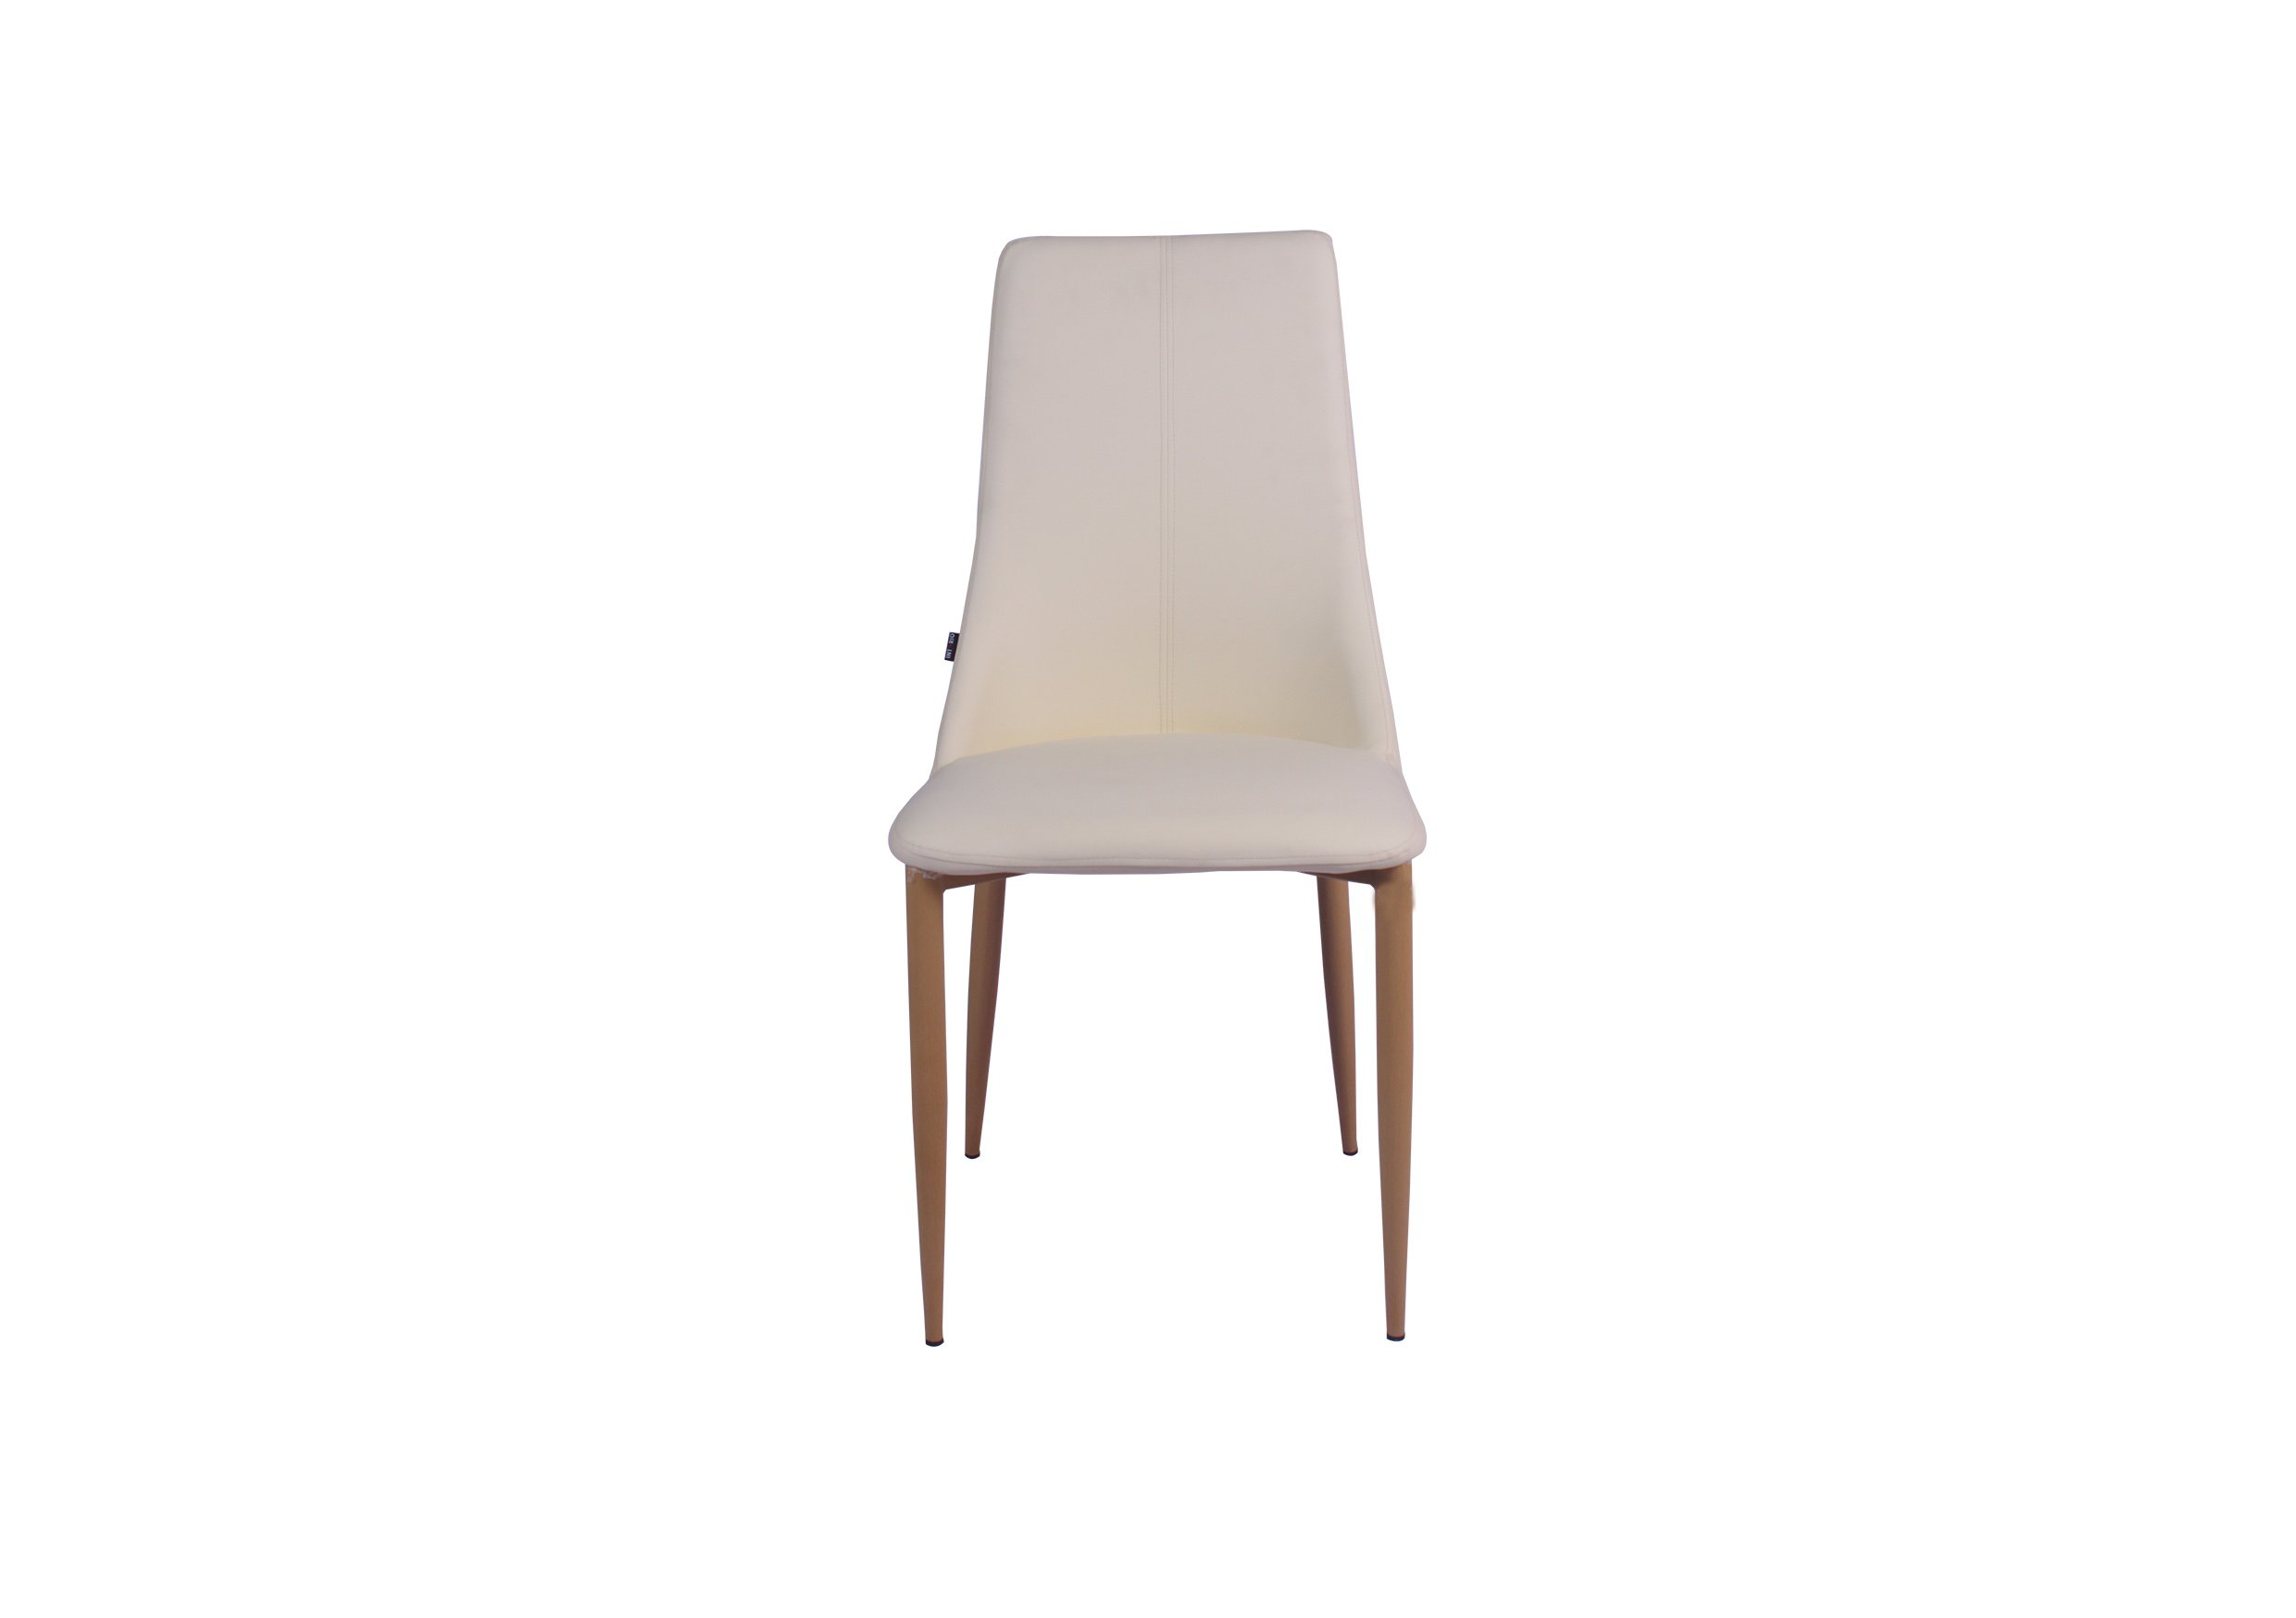kursi: (897, 229, 1426, 1354)
